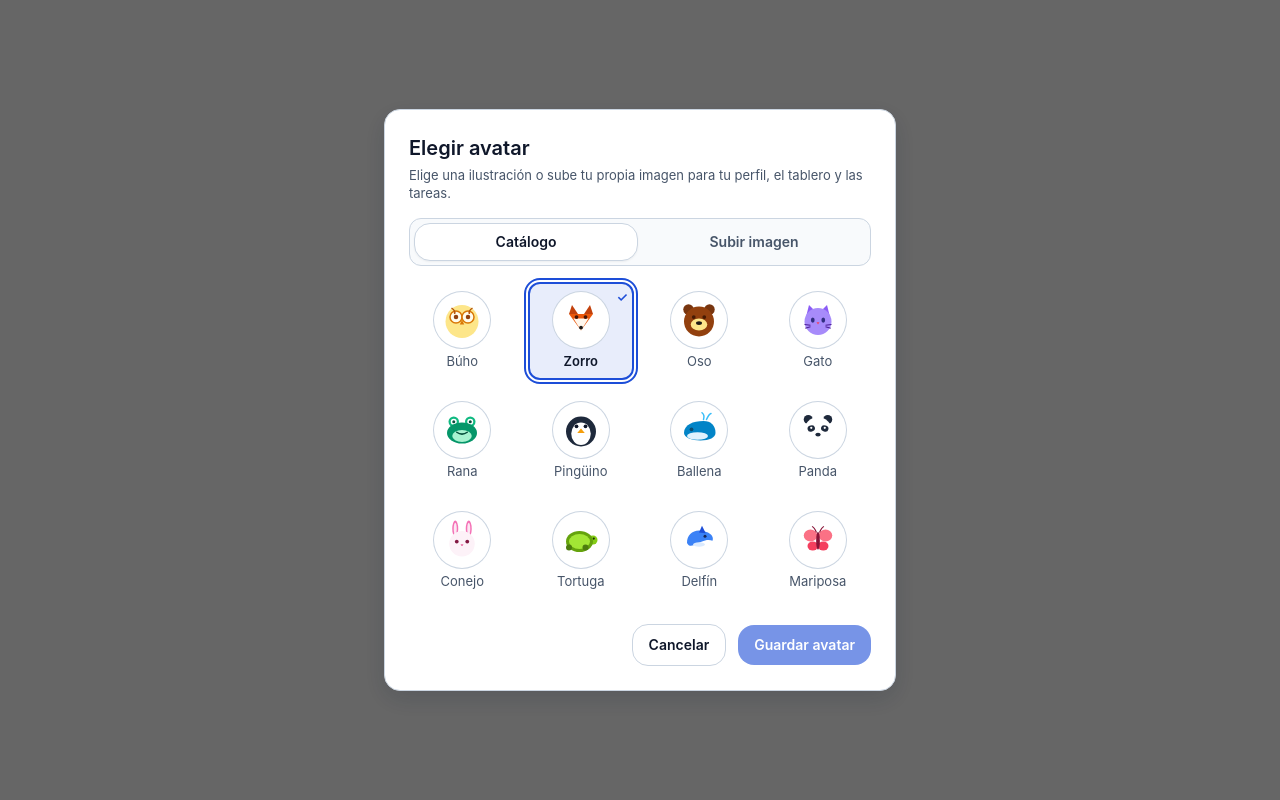
Test case: <AvatarPicker> › «Guardar avatar» está desactivado mientras no cambie la elección
This screenshot has width=1280, height=800.
Expected: the button "Guardar avatar" is disabled, [738,625,871,665]
Click the radio button labelled "Oso": (699, 330) [671,292,727,369]
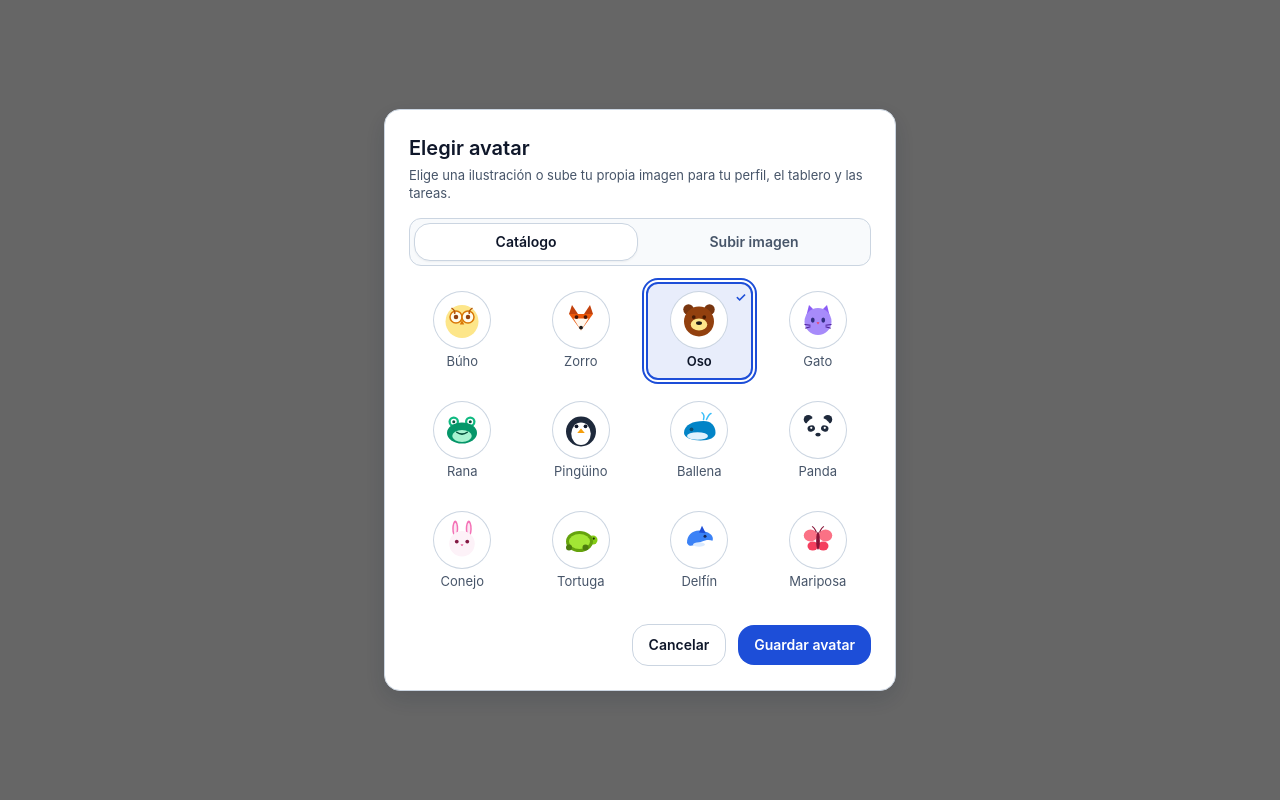
Expected: the button "Guardar avatar" is enabled, [738,625,871,665]
